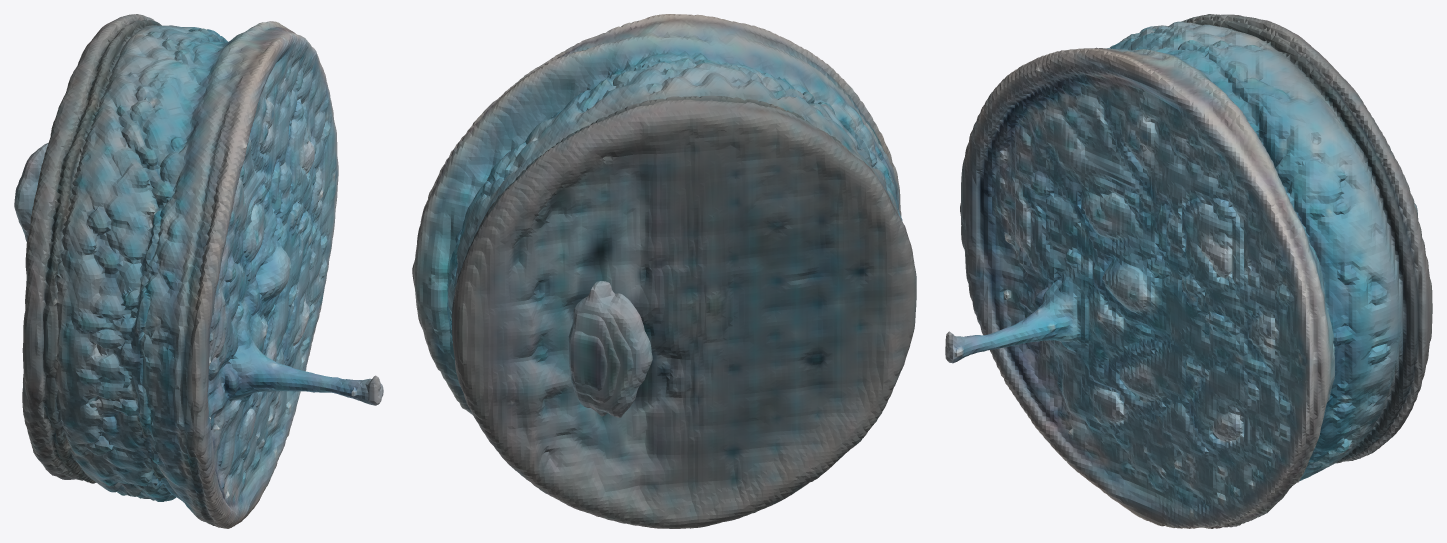
3 renders of one model, left to right at view 1: azimuth 30°, elevation 25°; view 2: azimuth 150°, elevation 25°; view 3: azimuth 270°, elevation 25°, orthographic.
Visible parts, largest first — view 1: world; view 2: world; view 3: world.
Part boxes in pixels (box(x1,y1,x2,y2)): world: box(14, 14, 383, 528); world: box(412, 14, 916, 528); world: box(945, 14, 1432, 528).
Size of the model in its own units: 0.8354 by 0.9084 by 0.8573.
